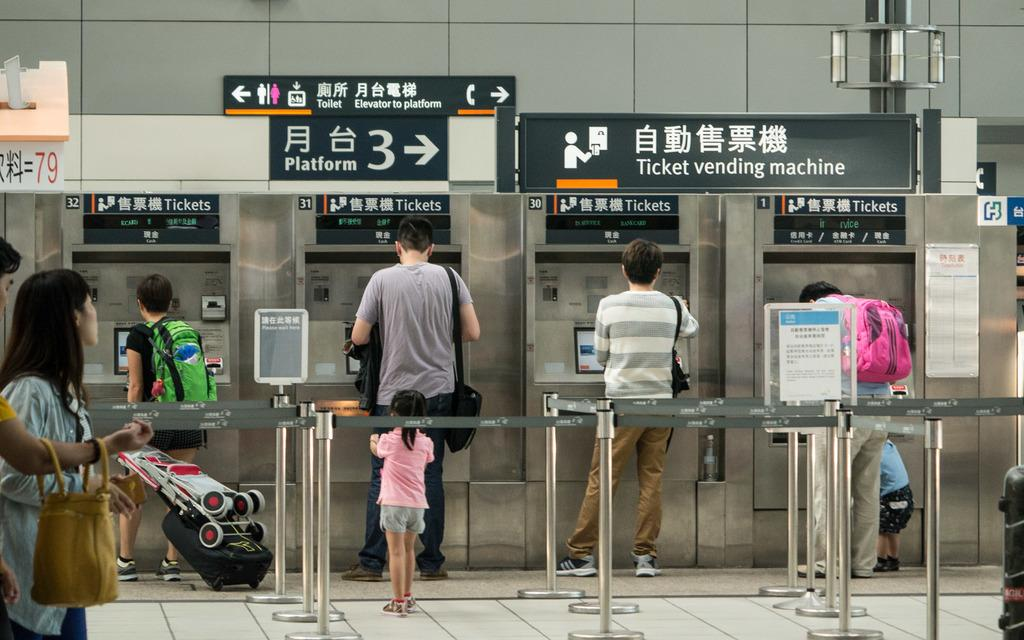Luggage-and-bags: (26, 432, 134, 598), (132, 314, 216, 447), (436, 263, 481, 454), (831, 288, 916, 383), (670, 291, 699, 442)
